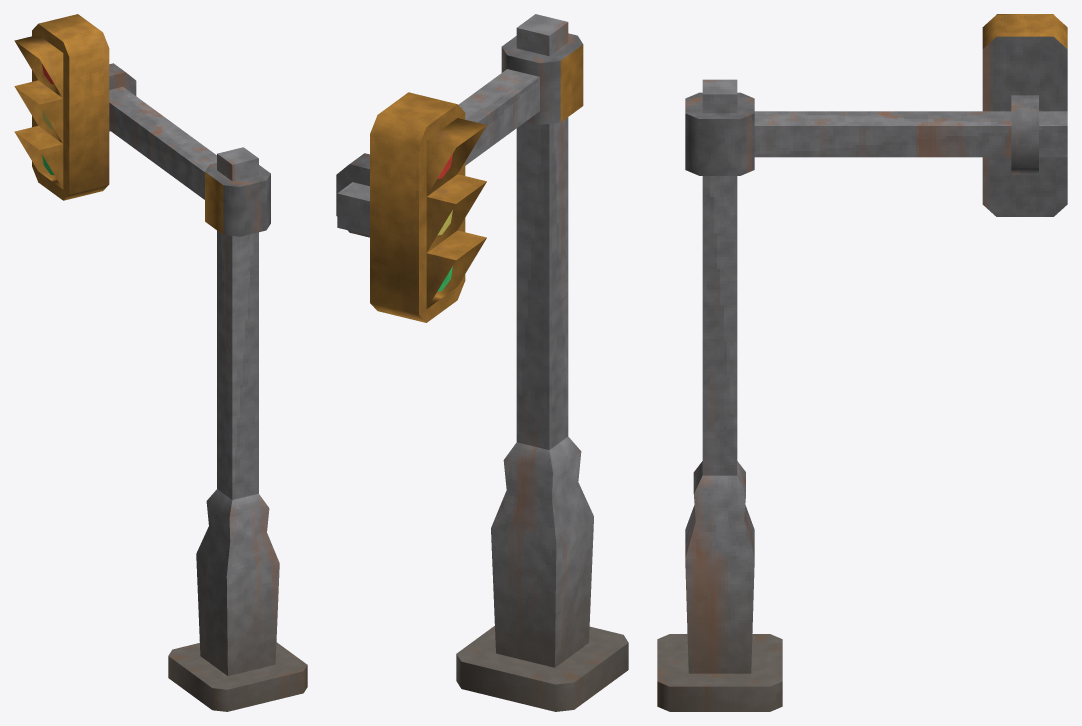
Rendered from traffic-light-hanging-2.glb.
3 renders of one model, left to right at view 1: azimuth 30°, elevation 25°; view 2: azimuth 150°, elevation 25°; view 3: azimuth 270°, elevation 25°, orthographic. The views are drawn at different scales.
Parts seen in each view (by area): view 1: traffic-light-hanging-2; view 2: traffic-light-hanging-2; view 3: traffic-light-hanging-2.
Part boxes in pixels (<box>): traffic-light-hanging-2: <box>14,14,307,711</box>; traffic-light-hanging-2: <box>336,14,628,711</box>; traffic-light-hanging-2: <box>657,14,1067,711</box>.
Size of the model in its own units: 0.1176 by 0.5091 by 0.295.
1 material, 1 textured.
